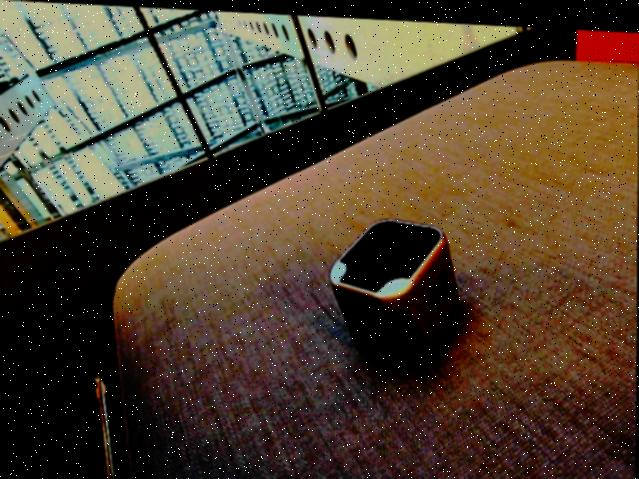adapter: (328, 211, 460, 365)
